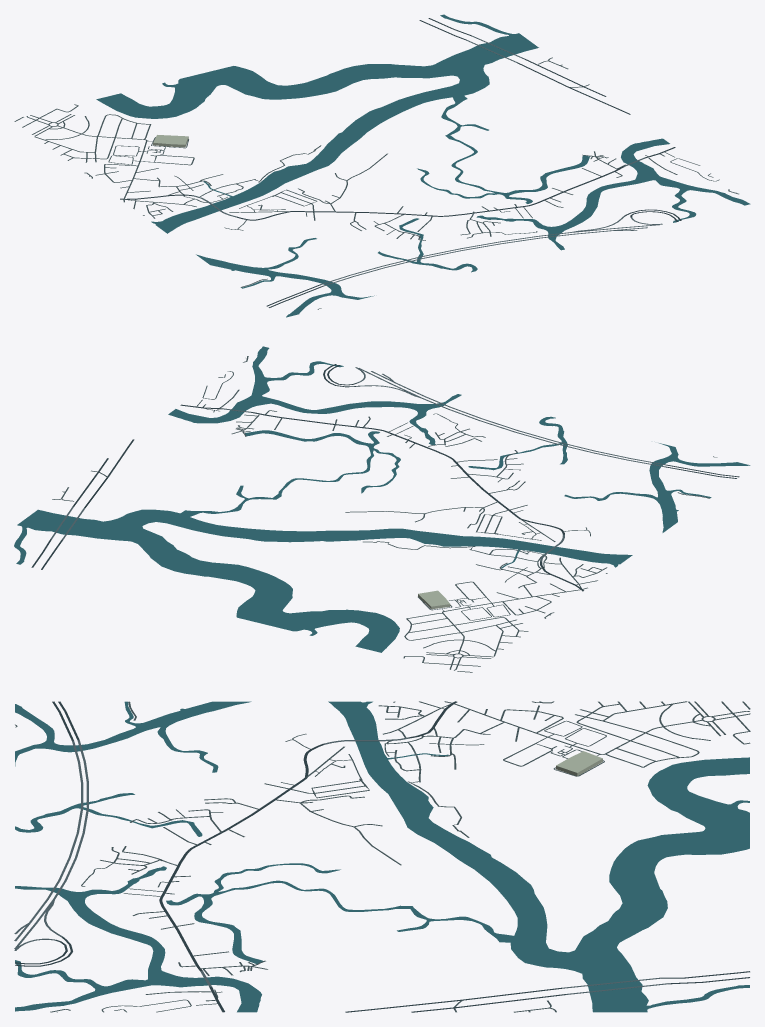
3 views of the same model, one above another, from view 1: azimuth 30°, elevation 25°; view 2: azimuth 150°, elevation 25°; view 3: azimuth 270°, elevation 25° (orthographic). The views are drawn at different scales.
Visible parts, largest first — view 1: water, street, major, bridge; view 2: water, street, major, bridge; view 3: water, street, major, bridge, building.
Boxes of the visible parts, x1,y1,x2,y2 form: water: [96, 14, 750, 317]; street: [14, 57, 738, 309]; major: [120, 18, 681, 307]; bridge: [194, 35, 662, 286]; water: [14, 346, 750, 652]; street: [52, 356, 717, 672]; major: [31, 364, 739, 591]; bridge: [50, 367, 666, 561]; water: [15, 701, 749, 1012]; street: [15, 701, 750, 1012]; major: [15, 701, 749, 1012]; bridge: [14, 737, 667, 994]; building: [556, 751, 602, 776].
Bounding box in the file's own units: 2006 × 10.7 × 2005.
